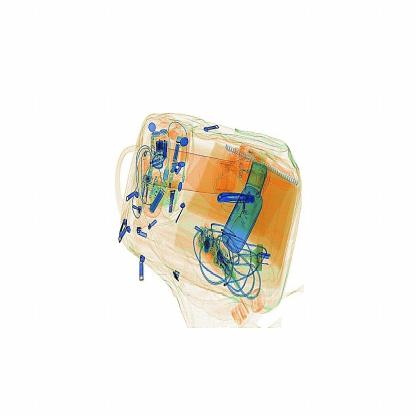knife: (211, 178, 260, 214)
